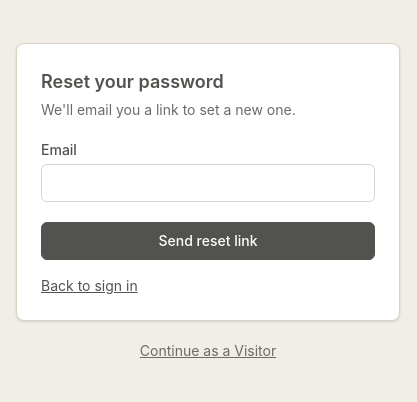
Scenario: PasswordResetRequestPage › shows the server's own message when the request is rejected, and stays on the form
Type "visitor@example.com" into the field labelled "Email".
click(208, 183); type("visitor@example.com")  # box [41,164,375,202]
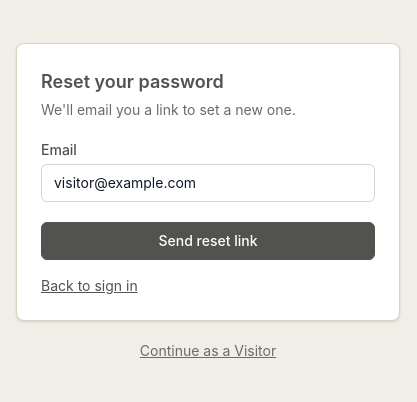
Click the button "Send reset link".
click(208, 241)  # box [41,222,375,260]
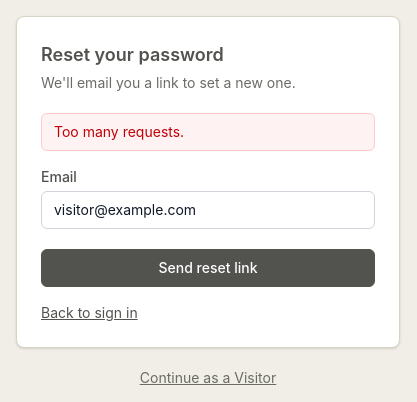
Expected: the button "Send reset link" is enabled, [41,249,375,287]
Expected: the message reads "Too many requests.", [54,123,184,140]
